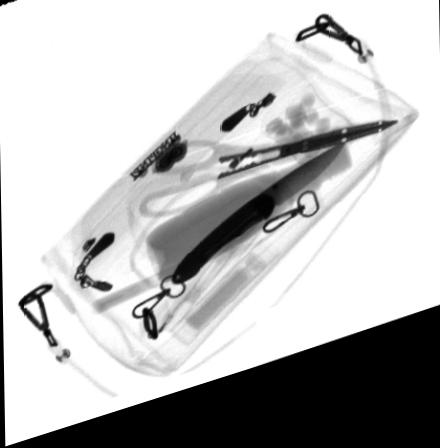Knife: (170, 163, 347, 295)
Scissors: (138, 143, 399, 227)
